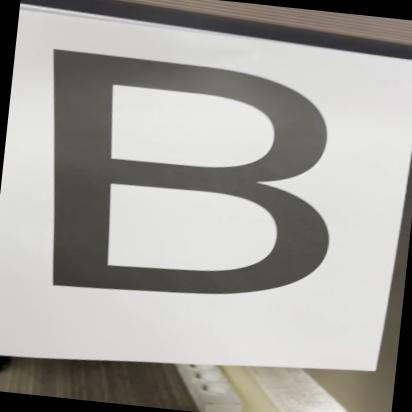seat: (16, 34, 366, 326)
